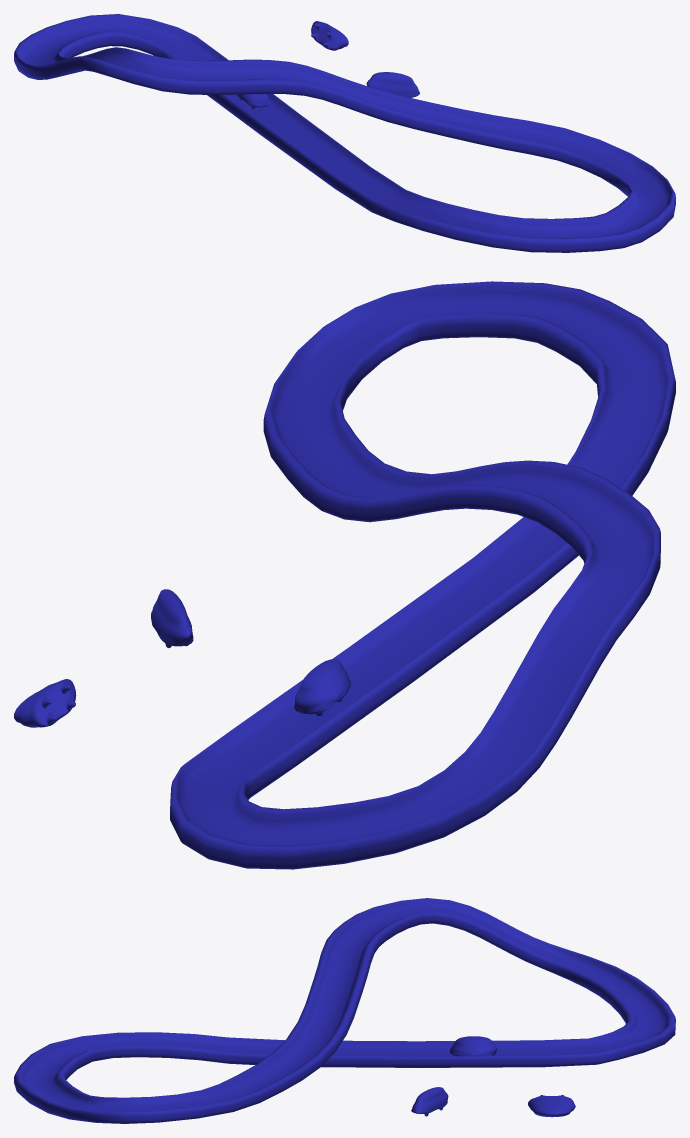
Rendered from Racetrack.fbx.
3 renders of one model, top to bottom at view 1: azimuth 30°, elevation 25°; view 2: azimuth 150°, elevation 25°; view 3: azimuth 270°, elevation 25°, orthographic. The views are drawn at different scales.
Parts seen in each view (by area): view 1: Racetrack:Box001; view 2: Racetrack:Box001; view 3: Racetrack:Box001.
Part boxes in pixels (x1,y1,x2,y2): Racetrack:Box001: (14,14,675,252); Racetrack:Box001: (14,281,675,869); Racetrack:Box001: (14,898,675,1123).
Bounding box in the file's own units: 25.91 × 7.16 × 45.67.
